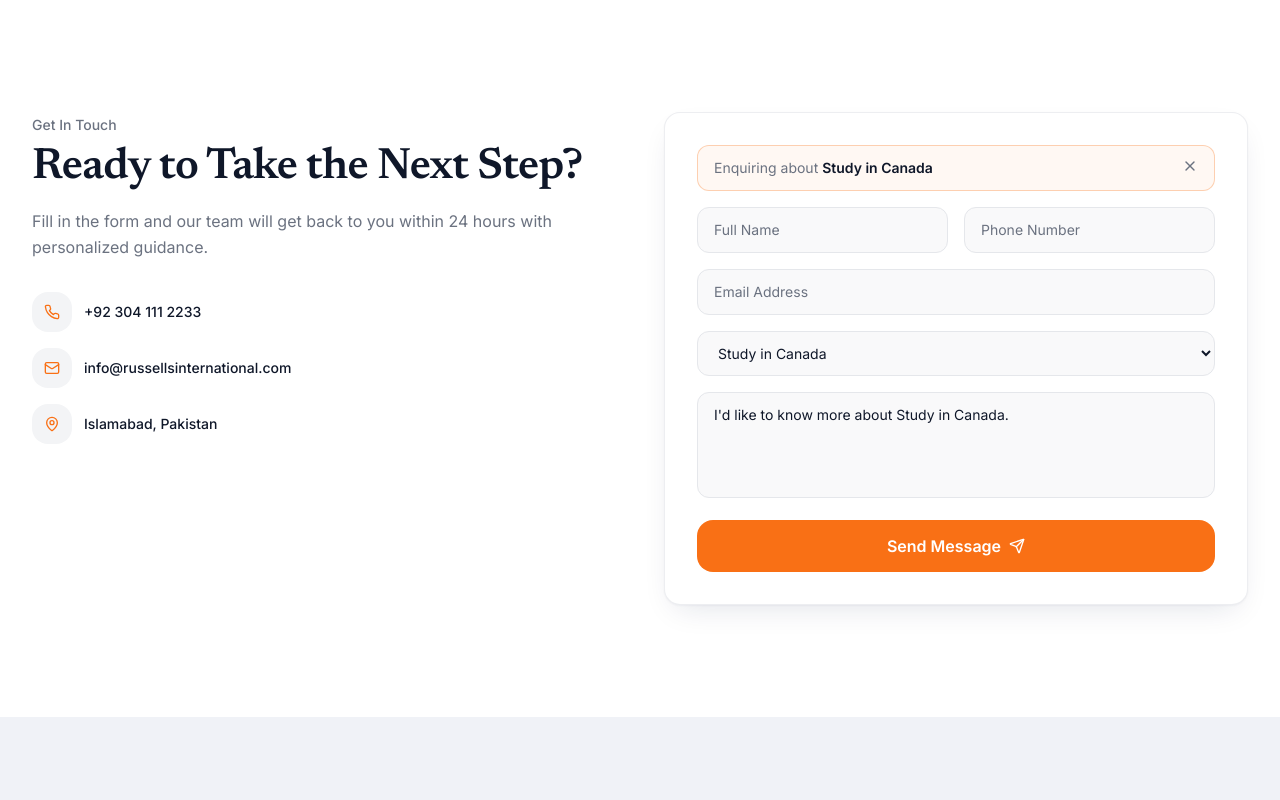
Test: ContactSection enquiry context › lets the visitor drop the programme again
Click the button named "clear the programme": point(1190, 166) [1178,154,1202,178]
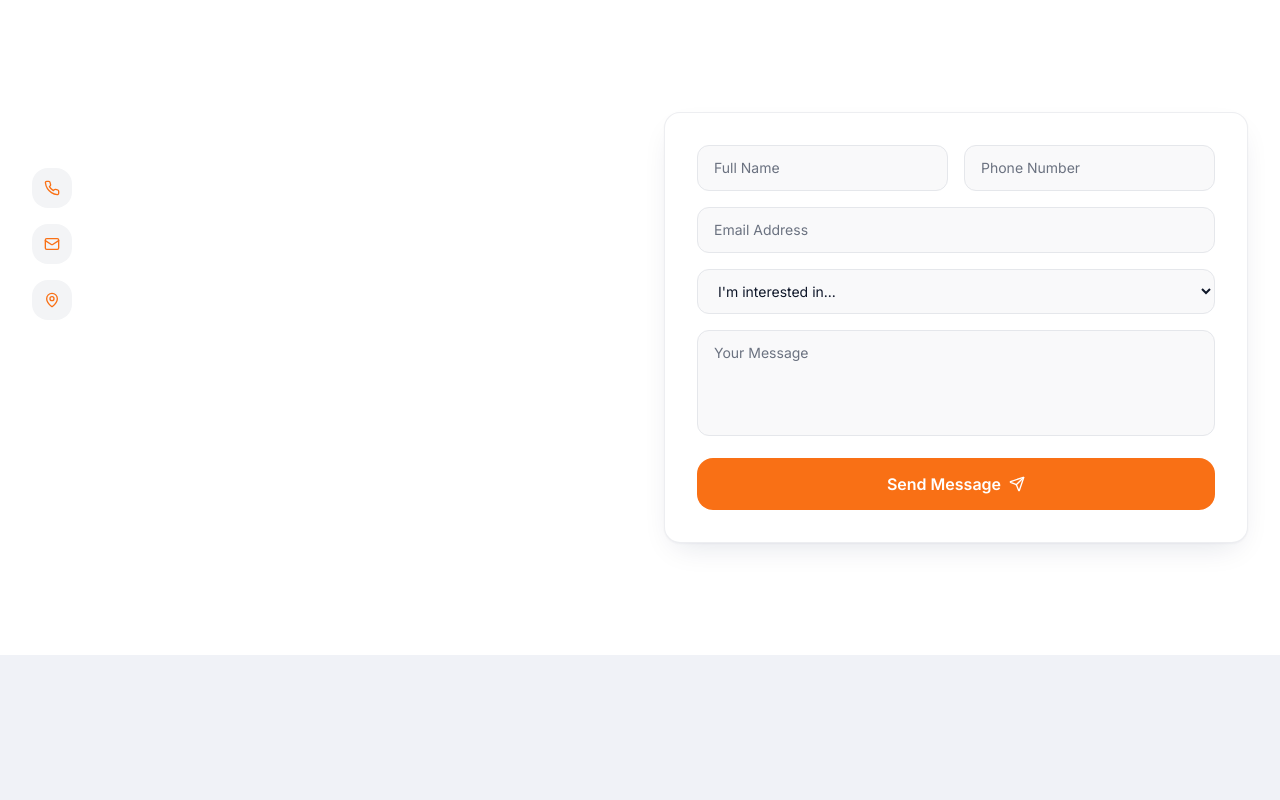
Now the text "Enquiring about" is gone
Now the text box labelled "Your Message" is empty, box [697,330,1215,436]
